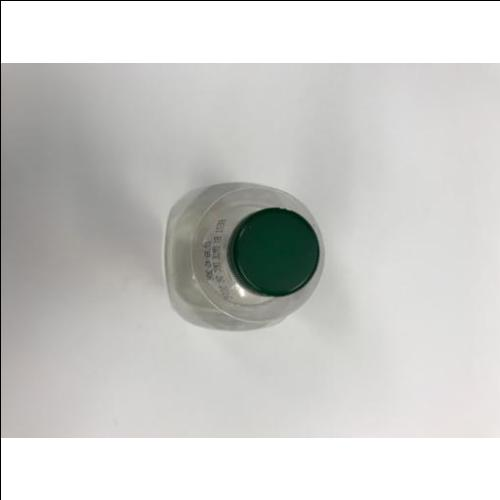plastic: (163, 179, 327, 332)
